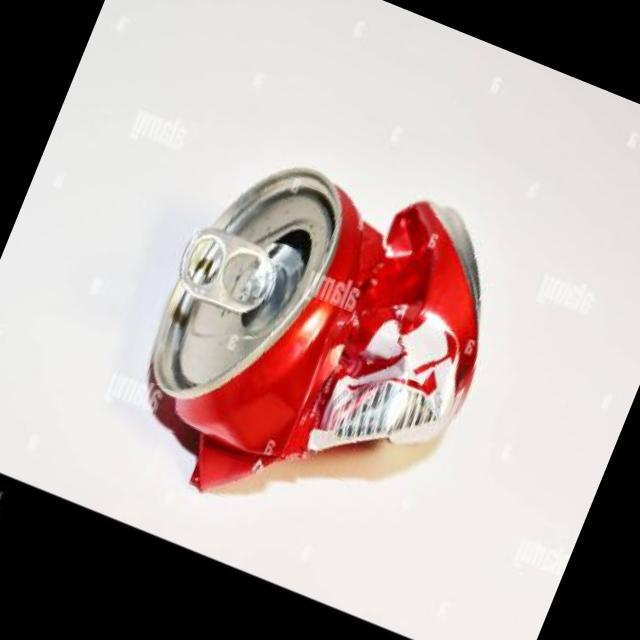Kaleng: (102, 118, 533, 572)
